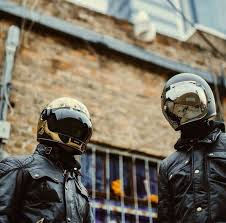helmet: (36, 90, 94, 157), (159, 74, 214, 125)
